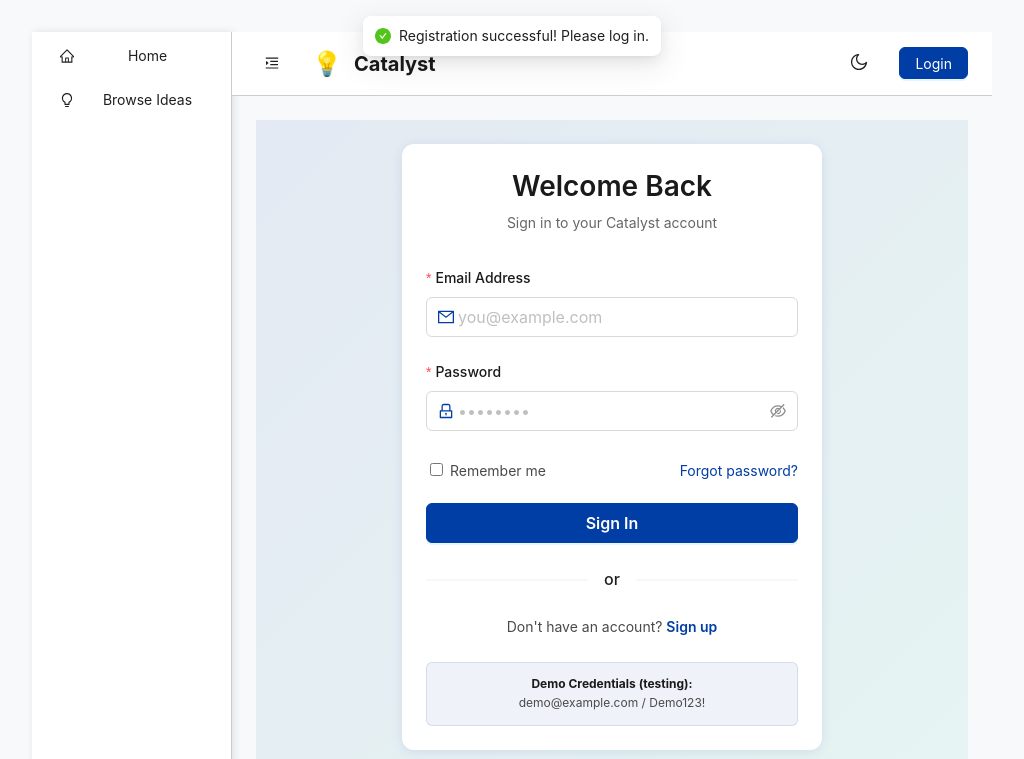
it: LoginPage Component › should display local error when login throws an Error
Type "test@example.com" into the field with test id "login-email-input" at (622, 317), box [458,305,786,329]
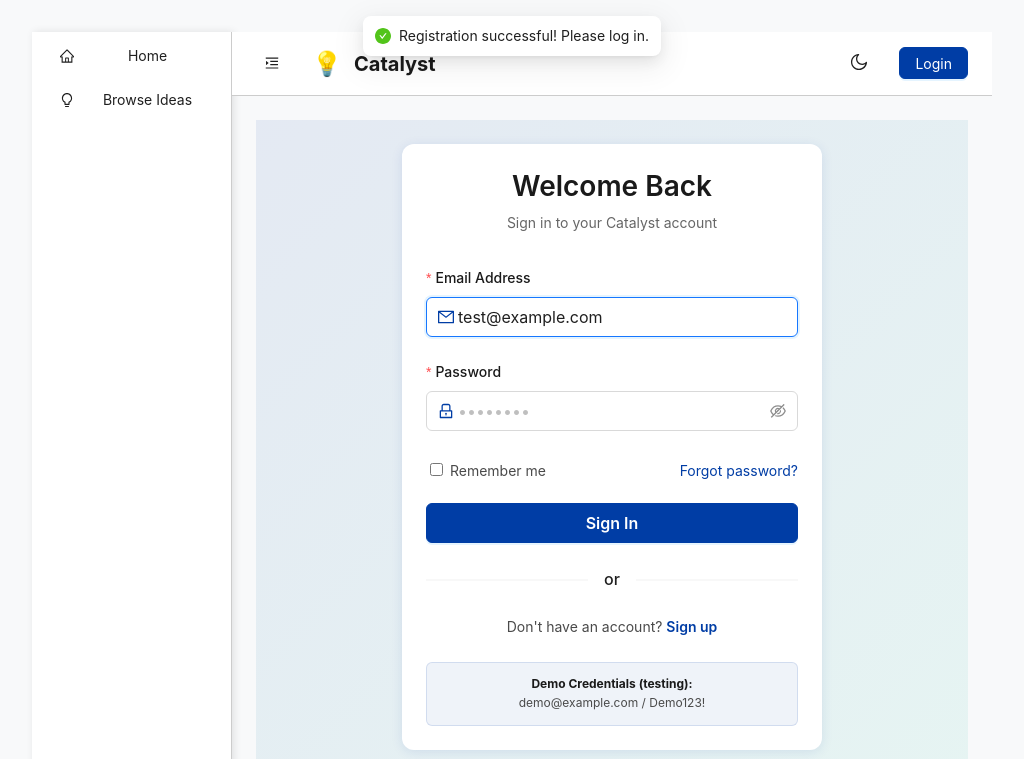
Type "password123" into the password field with test id "login-password-input" at (612, 411), box [458,399,766,423]
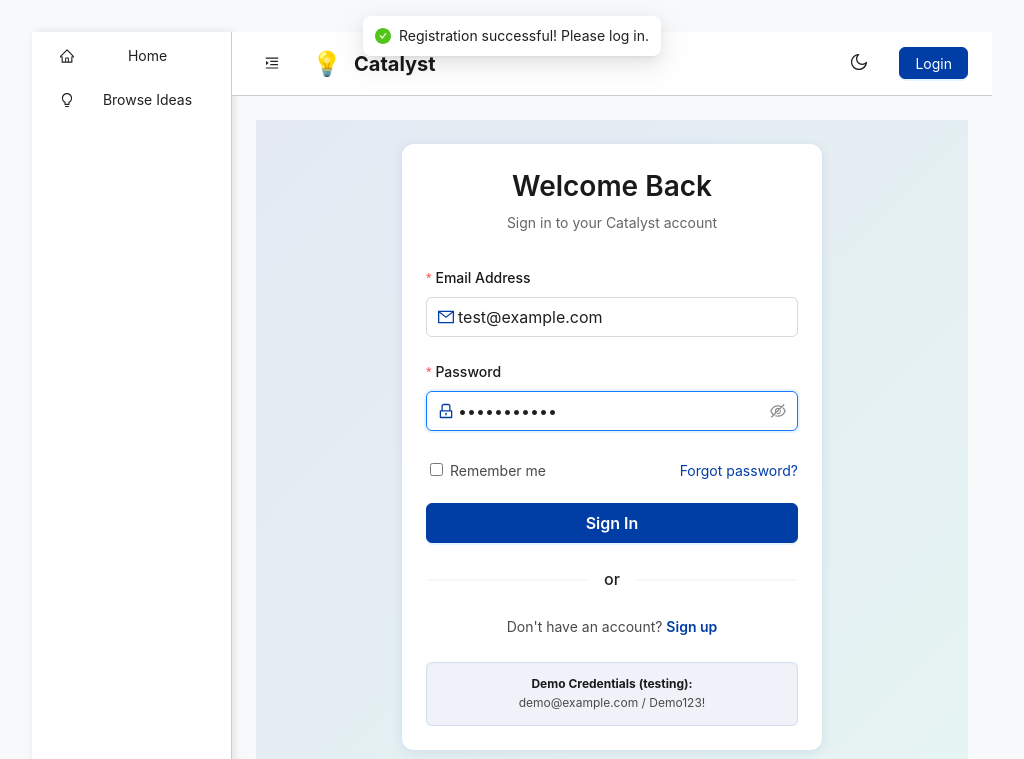
Click the button with test id "login-submit" at (612, 523), box [426,503,798,543]
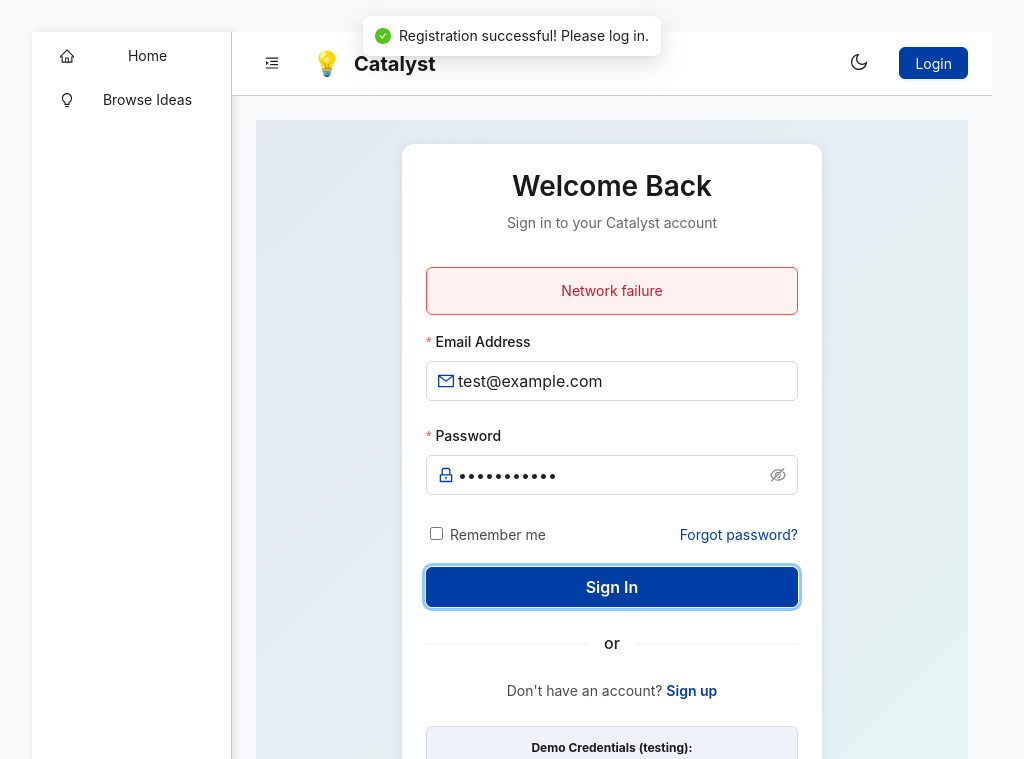
Now the text "Network failure" is shown, box [426,267,798,315]
